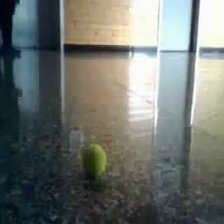tennis: (79, 143, 107, 180)
